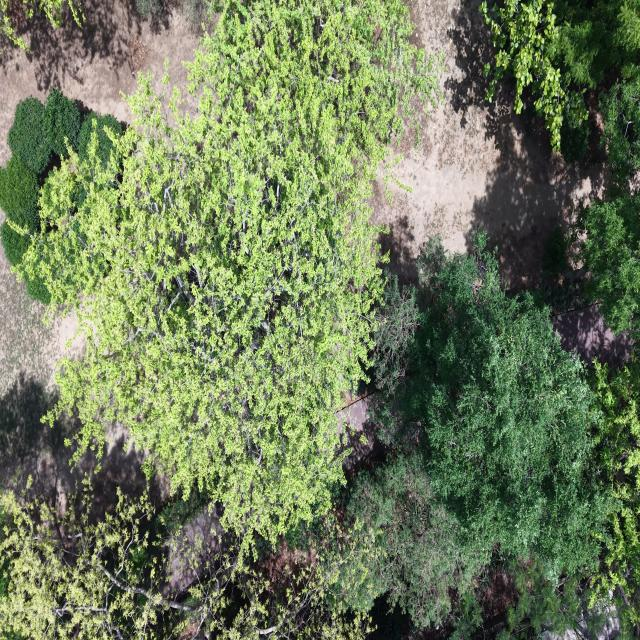DRY_AREA: (374, 0, 606, 288), (373, 0, 605, 287), (0, 0, 199, 165), (552, 305, 632, 365)
VEGETATION_TREE: (0, 0, 639, 639), (0, 0, 437, 638), (0, 239, 637, 639), (24, 0, 437, 544), (350, 243, 639, 638), (347, 235, 616, 637), (385, 235, 607, 574), (0, 481, 376, 639), (481, 0, 639, 332), (482, 2, 639, 332), (499, 354, 639, 638), (481, 0, 639, 167), (0, 89, 121, 303), (348, 452, 489, 629), (576, 80, 639, 332), (481, 0, 586, 149), (591, 355, 639, 634), (450, 556, 611, 639), (579, 193, 639, 332), (554, 0, 639, 88), (8, 89, 80, 176), (532, 225, 592, 315), (373, 272, 418, 392), (0, 156, 40, 268), (600, 78, 639, 191), (0, 0, 85, 51), (0, 0, 84, 50), (8, 97, 52, 175), (0, 156, 39, 231), (45, 89, 80, 157), (77, 112, 122, 164), (0, 221, 30, 266), (542, 226, 568, 277), (560, 118, 590, 162), (0, 0, 26, 48), (182, 0, 214, 29), (25, 275, 50, 304), (183, 0, 208, 26), (136, 0, 163, 17)
